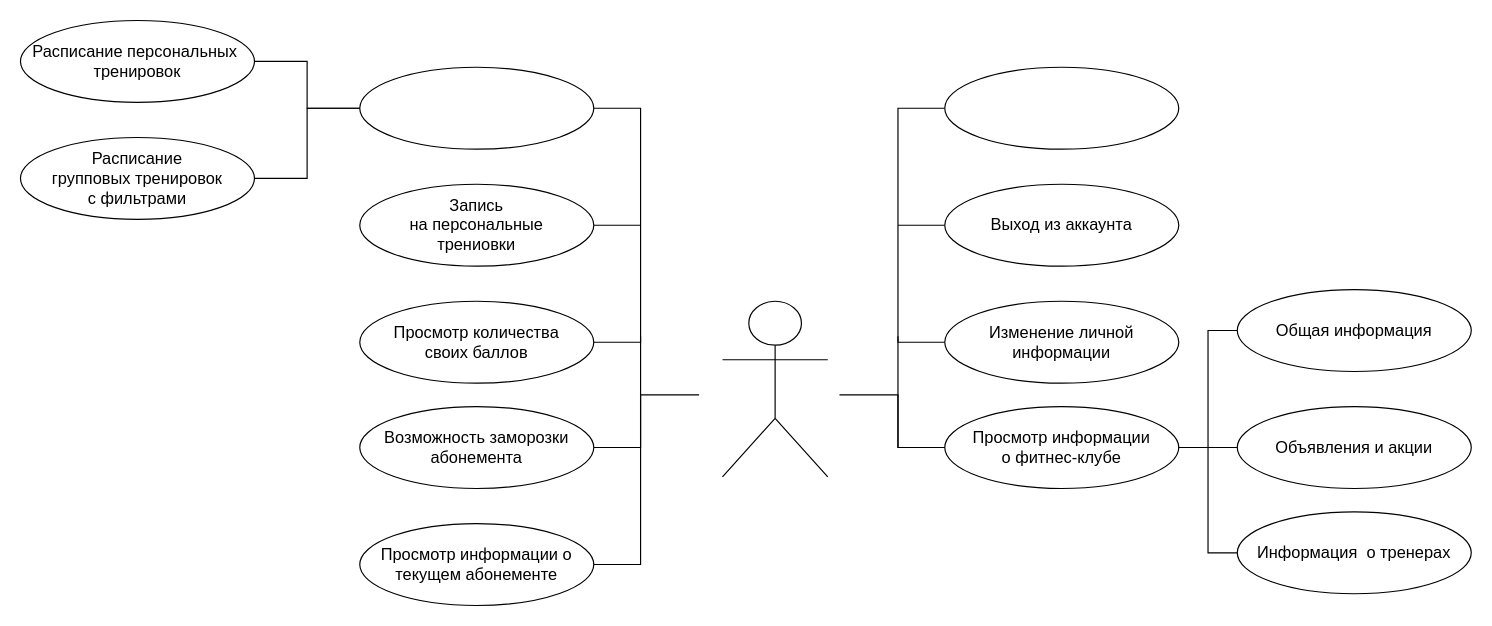
This 1492x626 diagram has some shape labels left out. The shapes that lost their labels are listed below. From the top down, each one's box as (x1, y1, x2, y2) in pixels, then its label:
(359, 66, 594, 149): Просмотр расписания
(944, 66, 1179, 149): Авторизация
(721, 300, 828, 477): Клиент
